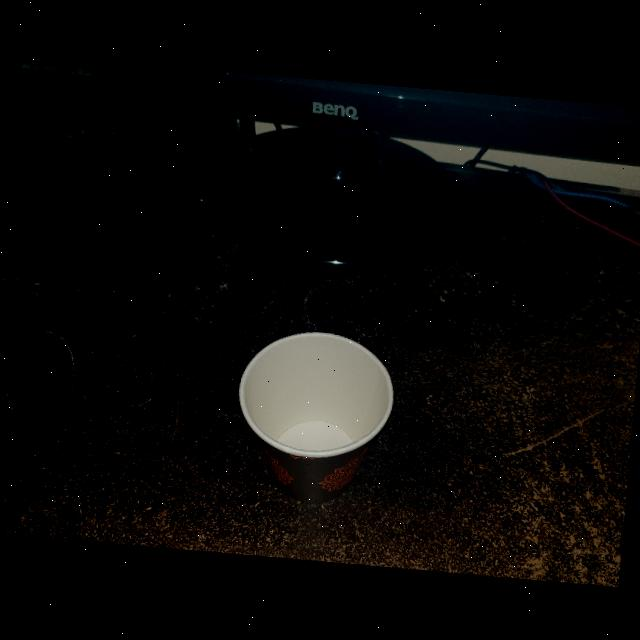trash: (226, 321, 402, 515)
